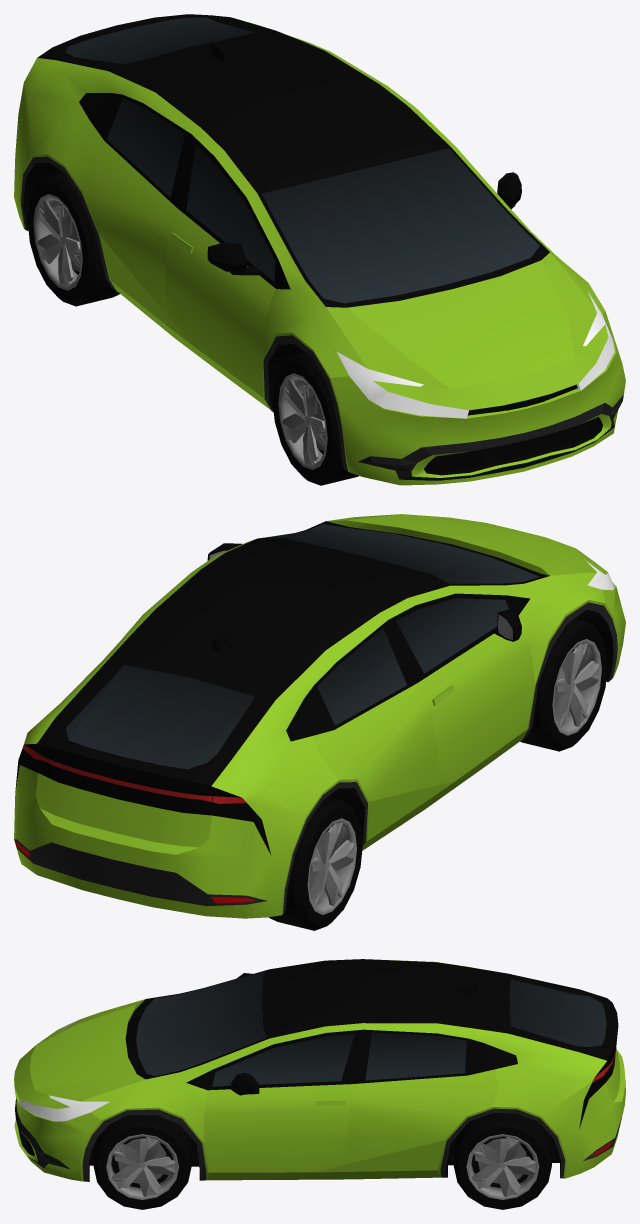
Rendered from Simple_Japanese_Car_V7.fbx.
The picture shows the model from 3 angles, top to bottom: view 1: azimuth 30°, elevation 25°; view 2: azimuth 150°, elevation 25°; view 3: azimuth 270°, elevation 25°; orthographic projection. The views are drawn at different scales.
Parts seen in each view (by area): view 1: Body, RR, FR; view 2: Body, RR, FR; view 3: Body, RL, FL.
Part boxes in pixels (box(x1,y1,x2,y2)): Body: box(14, 14, 625, 485); RR: box(27, 172, 119, 306); FR: box(272, 352, 358, 485); Body: box(14, 514, 625, 918); RR: box(268, 797, 362, 930); FR: box(520, 618, 607, 751); Body: box(14, 959, 625, 1181); RL: box(453, 1113, 551, 1209); FL: box(93, 1115, 191, 1209).
Size of the model in its own units: 2 by 1.48 by 4.64.
2 materials, 2 textured.
